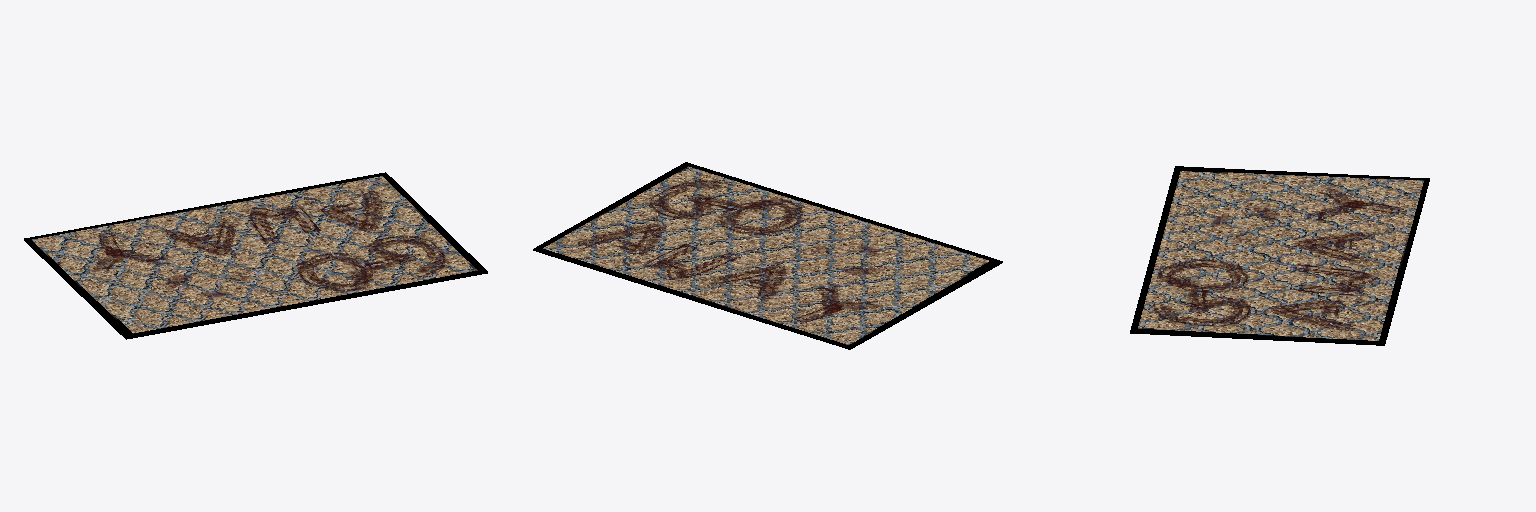
3 renders of one model, left to right at view 1: azimuth 30°, elevation 25°; view 2: azimuth 150°, elevation 25°; view 3: azimuth 270°, elevation 25°, orthographic.
Parts seen in each view (by area): view 1: Plane.003; view 2: Plane.003; view 3: Plane.003.
Part boxes in pixels (x1,y1,x2,y2): Plane.003: (24, 172, 487, 339); Plane.003: (533, 162, 1002, 349); Plane.003: (1130, 166, 1429, 345).
Bounding box in the file's own units: 2.14 × 0.0091 × 1.52.
Materials: 1 (1 with a texture image).